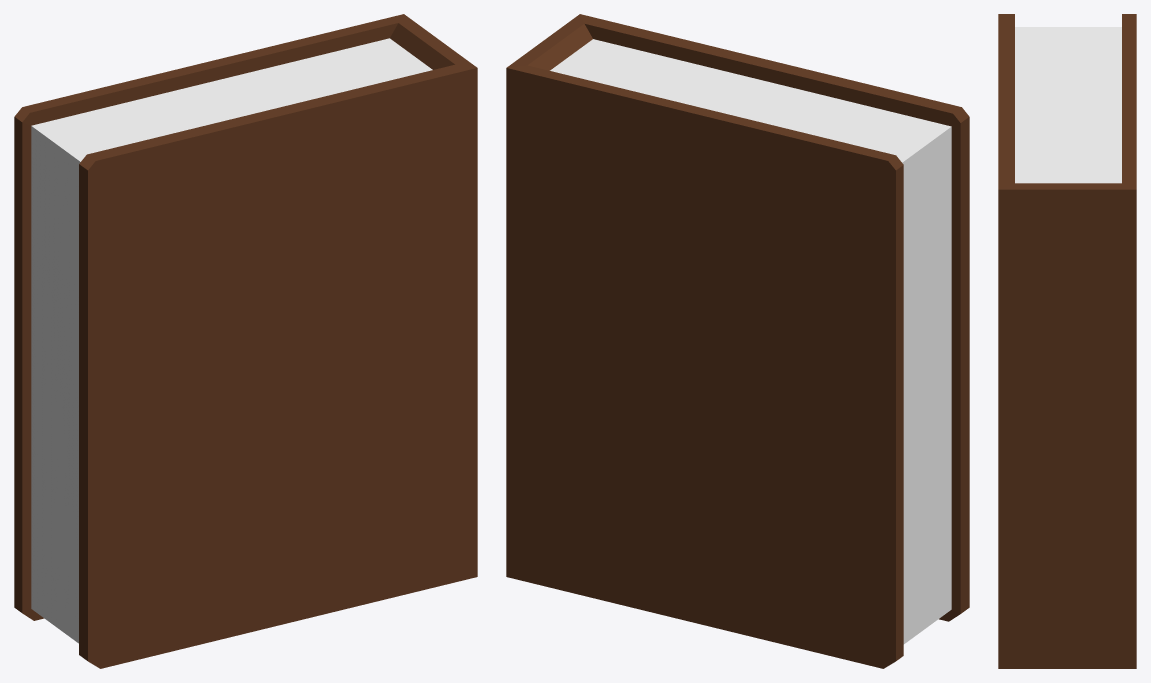
File: book03.gltf
3 renders of one model, left to right at view 1: azimuth 30°, elevation 25°; view 2: azimuth 150°, elevation 25°; view 3: azimuth 270°, elevation 25°, orthographic. The views are drawn at different scales.
Parts seen in each view (by area): view 1: Cube.001; view 2: Cube.001; view 3: Cube.001.
Boxes of the visible parts, x1=… form: Cube.001: x1=14, y1=14, x2=477, y2=668; Cube.001: x1=506, y1=14, x2=969, y2=668; Cube.001: x1=998, y1=14, x2=1136, y2=668.
Bounding box in the file's own units: 0.1678 × 0.2095 × 0.0549.
Materials: 1 (1 with a texture image).
